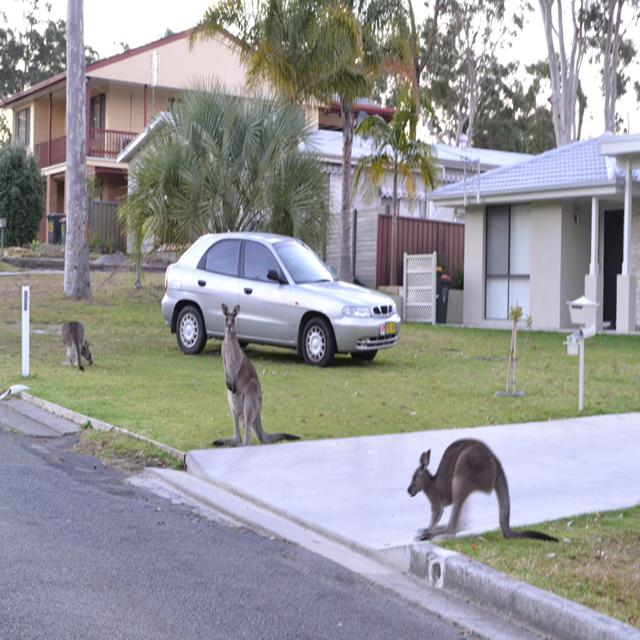kangaroo: (407, 437, 511, 540), (215, 300, 266, 447), (59, 318, 94, 369)
